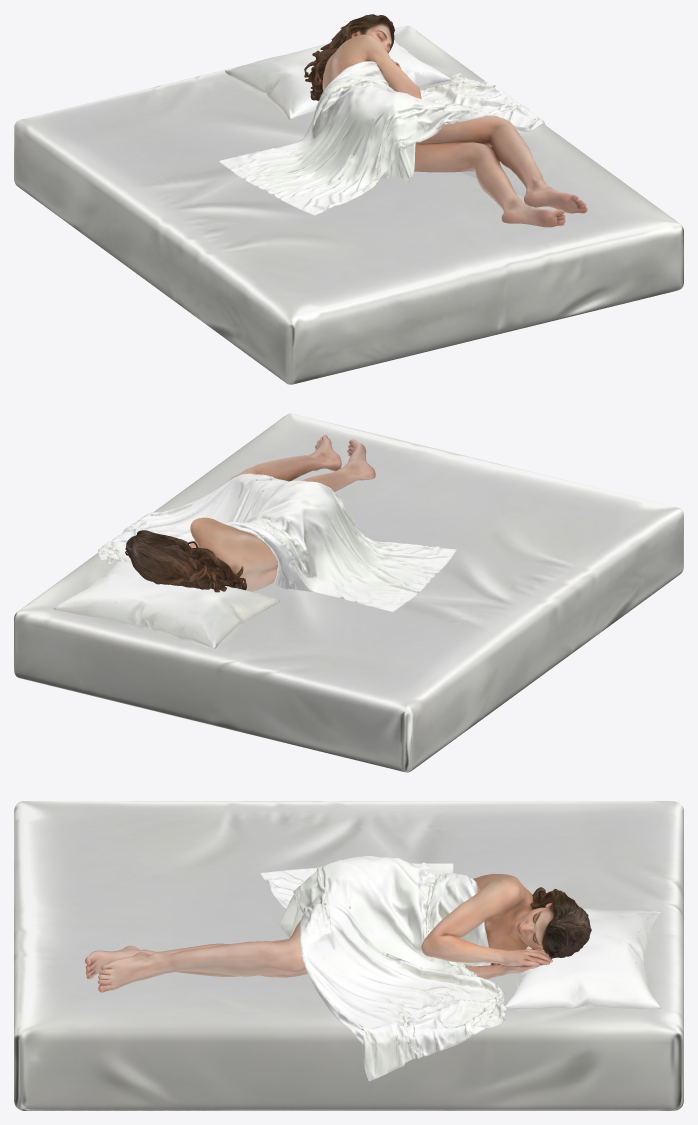
The model's file is gulosameica.glb.
The picture shows the model from 3 angles, top to bottom: view 1: azimuth 30°, elevation 25°; view 2: azimuth 150°, elevation 25°; view 3: azimuth 270°, elevation 25°; orthographic projection. The views are drawn at different scales.
Visible parts, largest first — view 1: Mesh1_Bed_modddif_material_0_0, Mesh1_Blengket_0, Mesh1_Sleeping_Woman_V12_modddif_material_0_0, Mesh1_Pillow_0; view 2: Mesh1_Bed_modddif_material_0_0, Mesh1_Blengket_0, Mesh1_Sleeping_Woman_V12_modddif_material_0_0, Mesh1_Pillow_0; view 3: Mesh1_Bed_modddif_material_0_0, Mesh1_Blengket_0, Mesh1_Sleeping_Woman_V12_modddif_material_0_0, Mesh1_Pillow_0.
Part boxes in pixels (x1,y1,x2,y2): Mesh1_Bed_modddif_material_0_0: (14,25,683,384); Mesh1_Blengket_0: (218,61,545,215); Mesh1_Sleeping_Woman_V12_modddif_material_0_0: (304,14,587,227); Mesh1_Pillow_0: (225,40,450,119); Mesh1_Bed_modddif_material_0_0: (14,413,683,772); Mesh1_Blengket_0: (98,473,457,612); Mesh1_Sleeping_Woman_V12_modddif_material_0_0: (125,435,375,592); Mesh1_Pillow_0: (54,560,279,648); Mesh1_Bed_modddif_material_0_0: (14,801,683,1110); Mesh1_Blengket_0: (259,856,506,1081); Mesh1_Sleeping_Woman_V12_modddif_material_0_0: (85,874,591,992); Mesh1_Pillow_0: (505,908,661,1010).
Size of the model in its own units: 35.4 by 11.36 by 42.07.
Materials: 4 (4 with a texture image).
